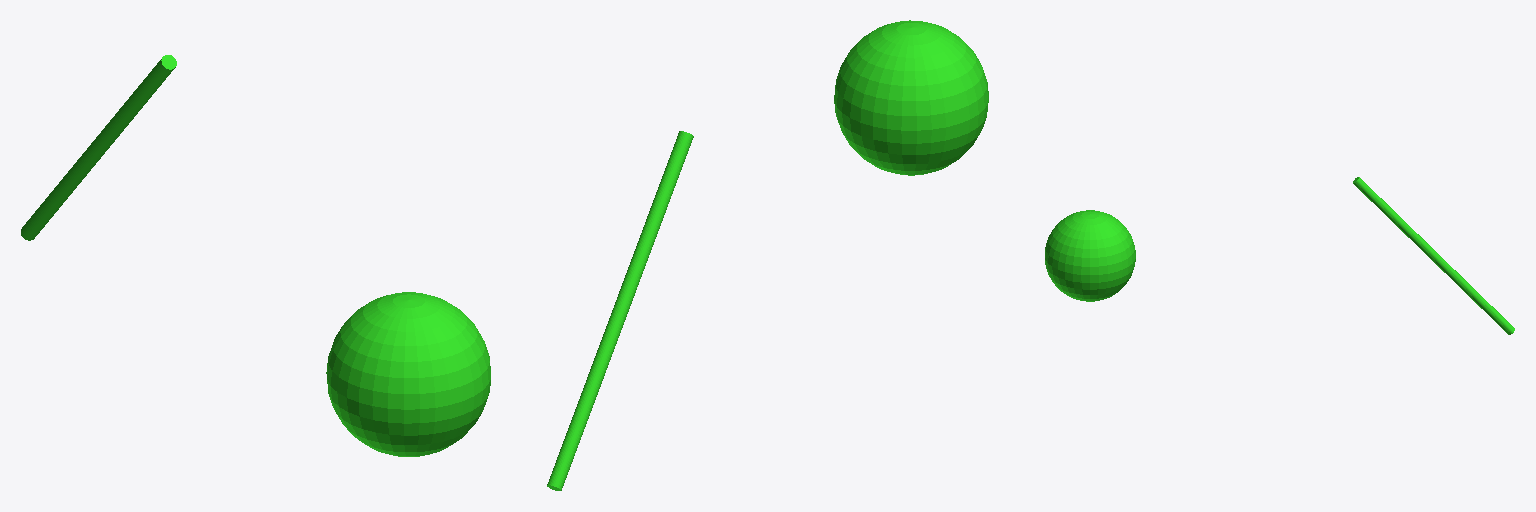
URDF robot description (strawberry_plant):
<?xml version="1.0" encoding="utf-8"?>
<robot name="strawberry_plant">
  <link name="world"/>
  <material name="Blue">
    <color rgba="0.28 0.52 0.92 1.0"/>0
  </material>
  <material name="red">
    <color rgba="0.9 0.2 0.2 1.0"/>0
  </material>
  <material name="green">
    <color rgba="0.25 0.9 0.2 1.0"/>0
  </material>

  <link name="Upperstem">
    <visual>
      <geometry>
        <sphere radius="0.01"/>
      </geometry>
      <origin rpy="0 0 0" xyz="0 0 0"/>
      <material name="green"/>
    </visual>
  </link>

  <joint name="joint0" type="fixed">
    <parent link="world"/>
    <child link="Upperstem"/>
    <origin rpy="0 0 0" xyz="0 0 0"/>
  </joint>

<!-- asdffffffffffffffffffffffffffffffffffffffffffffffffffffffffffffffffffffffffffffffffffffffff -->
<!-- asdffffffffffffffffffffffffffffffffffffffffffffffffffffffffffffffffffffffffffffffffffffffff -->
<!-- asdffffffffffffffffffffffffffffffffffffffffffffffffffffffffffffffffffffffffffffffffffffffff -->
<!-- asdffffffffffffffffffffffffffffffffffffffffffffffffffffffffffffffffffffffffffffffffffffffff -->


  <link name="stem1">
    <visual>
      <geometry>
        <cylinder radius="0.001" length="0.05"/>
      </geometry>
      <origin rpy="0.75 0 0" xyz="0 0.075 0"/>
      <material name="green"/>
    </visual>
    <collision>
      <geometry>
        <cylinder radius="0.001" length="0.13"/>
      </geometry>
      <origin rpy="0.75 0 0" xyz="0 0.075 0"/>
    </collision>
    <inertial>
      <origin rpy="0.75 0 0" xyz="0 0.075 0"/>
      <mass value="0.01"/>
        <inertia  ixx="0.00001" ixy="0.0" ixz="0.0"
                  iyy="0.00001" iyz="0.0"
                  izz="0.00001" />
    </inertial>
  </link>

  <link name="stem1_inner_jointlink_1">
    <inertial>
      <origin rpy="0 0 0" xyz="0 0 0"/>
      <mass value="0.0"/>
        <inertia  ixx="0.0" ixy="0.0" ixz="0.0"
                  iyy="0.0" iyz="0.0"
                  izz="0.0" />
    </inertial>
  </link>
  <joint name="stem1_innerjoint1" type="revolute" >
    <parent link="Upperstem" />
    <child link="stem1_inner_jointlink_1" />
    <origin xyz="0 0 0" rpy="0 0 0"/>
    <axis xyz="1 0 0" />
    <dynamics damping="0.0001" friction="0.0002"/>
    <limit
      lower="-10" upper="10"
      effort="1" velocity="0.1" />
  </joint>
  <link name="stem1_inner_jointlink_2">
    <inertial>
      <origin rpy="0 0 0" xyz="0 0 0"/>
      <mass value="0.0"/>
        <inertia  ixx="0.0" ixy="0.0" ixz="0.0"
                  iyy="0.0" iyz="0.0"
                  izz="0.0" />
    </inertial>
  </link>
  <joint name="stem1_innerjoint2" type="revolute" >
    <parent link="stem1_inner_jointlink_1" />
    <child link="stem1_inner_jointlink_2" />
    <origin xyz="0 0 0" rpy="0 0 0"/>
    <axis xyz="0 1 0" />
    <dynamics damping="0.0001" friction="0.0002"/>
    <limit
      lower="-10" upper="10"
      effort="1" velocity="0.1" />
  </joint>
  <joint name="stem1_innerjoint3" type="revolute" >
    <parent link="stem1_inner_jointlink_2" />
    <child link="stem1" />
    <origin xyz="0 0 0" rpy="0 0 0"/>
    <axis xyz="0 0 1" />
    <dynamics damping="0.0001" friction="0.0002"/>
    <limit
      lower="-10" upper="10"
      effort="1" velocity="0.1" />
  </joint>
</robot>

--- Facts derived from the render (not from the file) ---
3 views of the same robot in one strip: view 1: azimuth 30°, elevation 25°; view 2: azimuth 150°, elevation 25°; view 3: azimuth 270°, elevation 25° (orthographic).
Model strawberry_plant with 5 links and 4 joints (3 revolute, 1 fixed), rooted at world, posed all joints at 0.
Links seen in each view (by area): view 1: Upperstem, stem1; view 2: Upperstem, stem1; view 3: Upperstem, stem1.
Link boxes in pixels (bbox=[...]): Upperstem: bbox=[326, 292, 490, 456]; stem1: bbox=[21, 55, 176, 240]; Upperstem: bbox=[834, 20, 988, 175]; stem1: bbox=[547, 131, 693, 490]; Upperstem: bbox=[1045, 210, 1135, 301]; stem1: bbox=[1353, 177, 1514, 334].
Size in the robot's own frame: 0.02 by 0.1028 by 0.0379 metres.
Geometry: primitives only (box / cylinder / sphere), no mesh files.